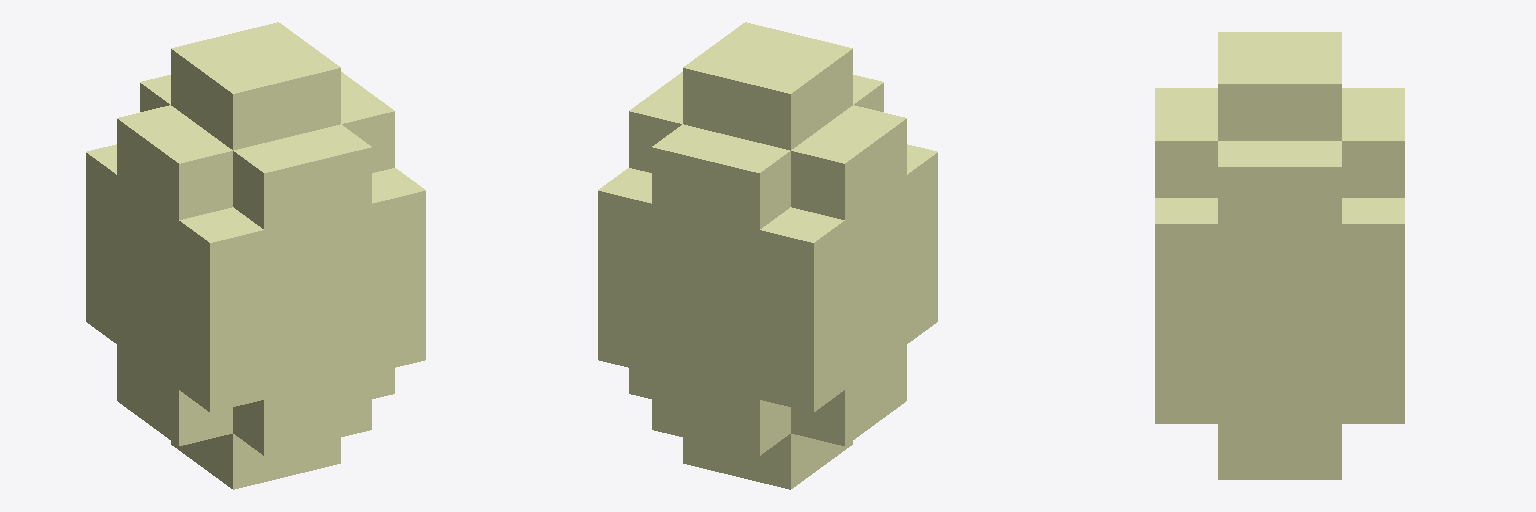
3 views of the same model, side by side, from view 1: azimuth 30°, elevation 25°; view 2: azimuth 150°, elevation 25°; view 3: azimuth 270°, elevation 25° (orthographic).
Bounding box in the file's own units: 4 × 7 × 4.
Materials: 1 (1 with a texture image).